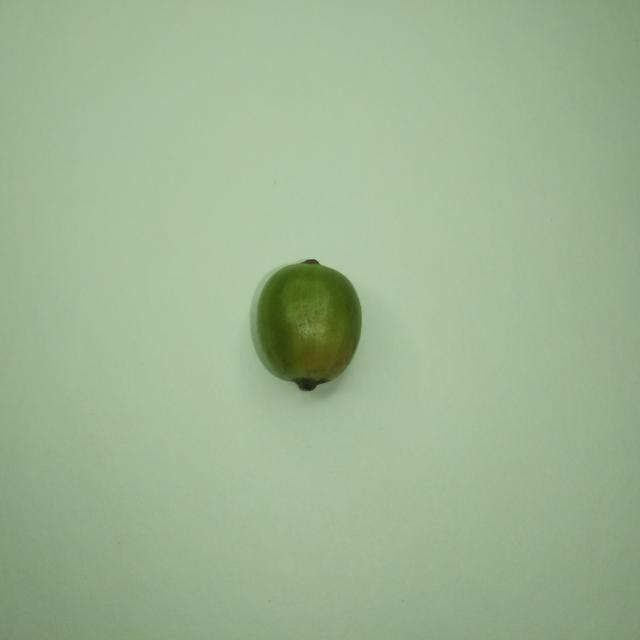Sano: (251, 259, 361, 390)
